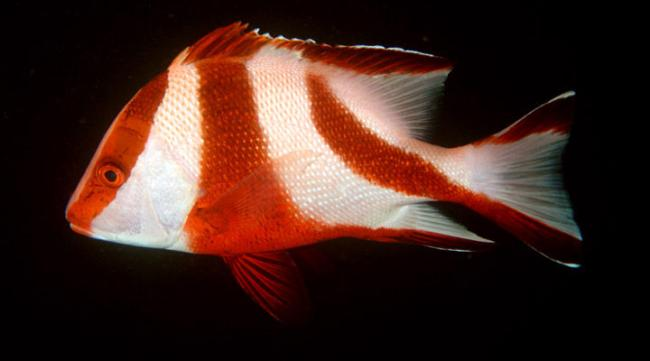fish: (65, 22, 585, 319)
